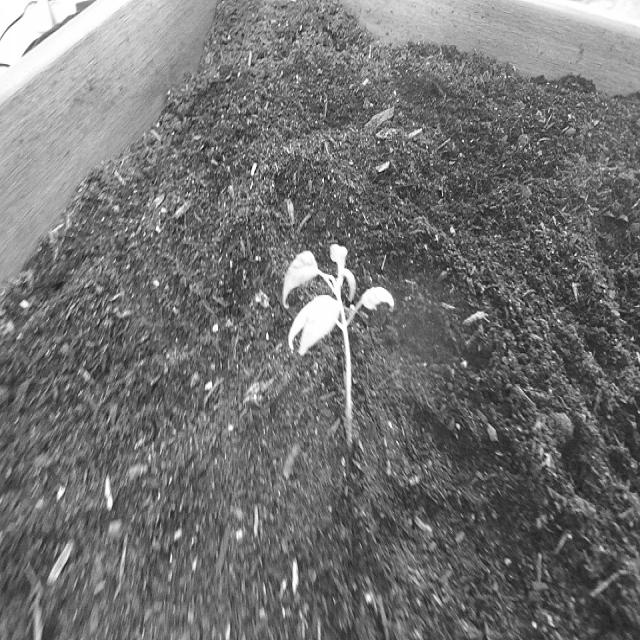Healthy: (281, 237, 397, 472)
